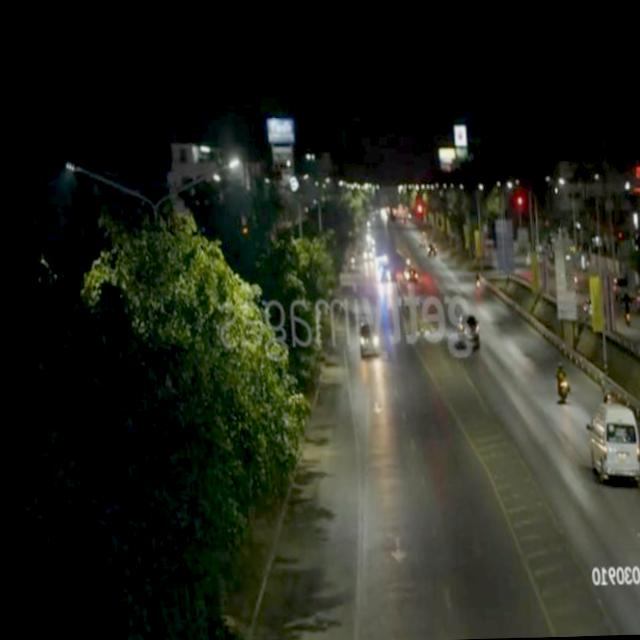emergency: (578, 392, 640, 490)
